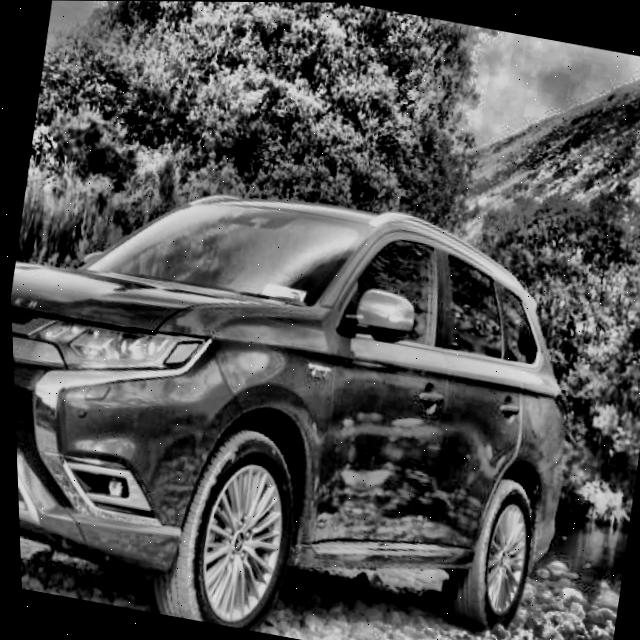light_vehicle: (4, 144, 606, 640)
